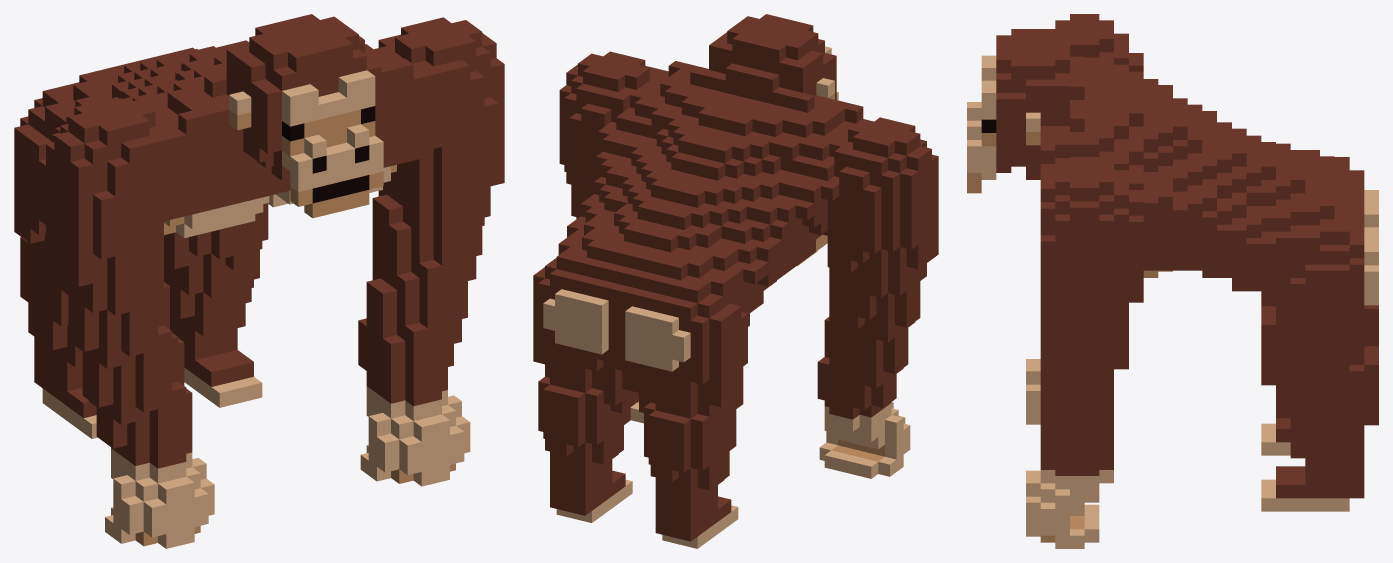
The model's file is 5Card_2Lv.obj.
3 renders of one model, left to right at view 1: azimuth 30°, elevation 25°; view 2: azimuth 150°, elevation 25°; view 3: azimuth 270°, elevation 25°, orthographic. The views are drawn at different scales.
Size of the model in its own units: 3 by 3.2 by 2.8.
